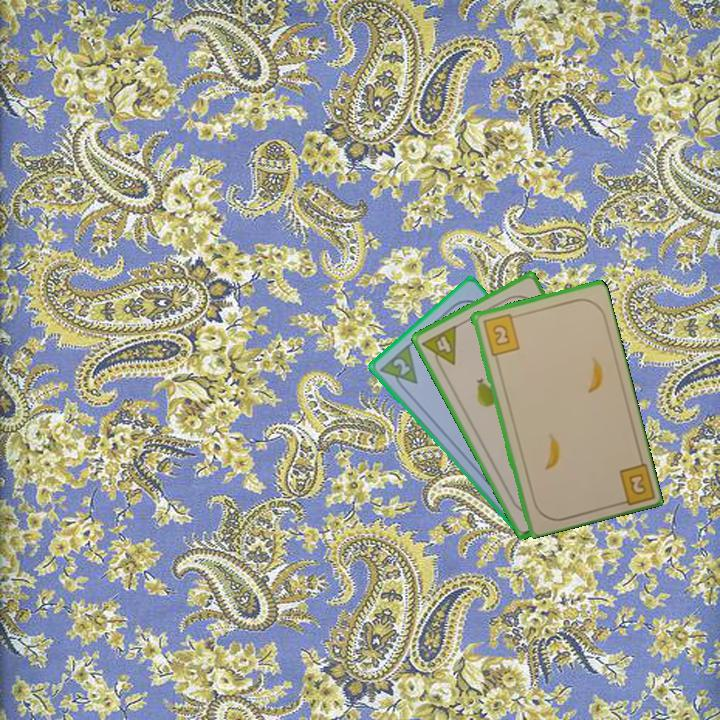2b: (612, 458, 656, 508), (479, 310, 522, 358)
2p: (375, 341, 420, 395)
4p: (418, 321, 459, 374)
